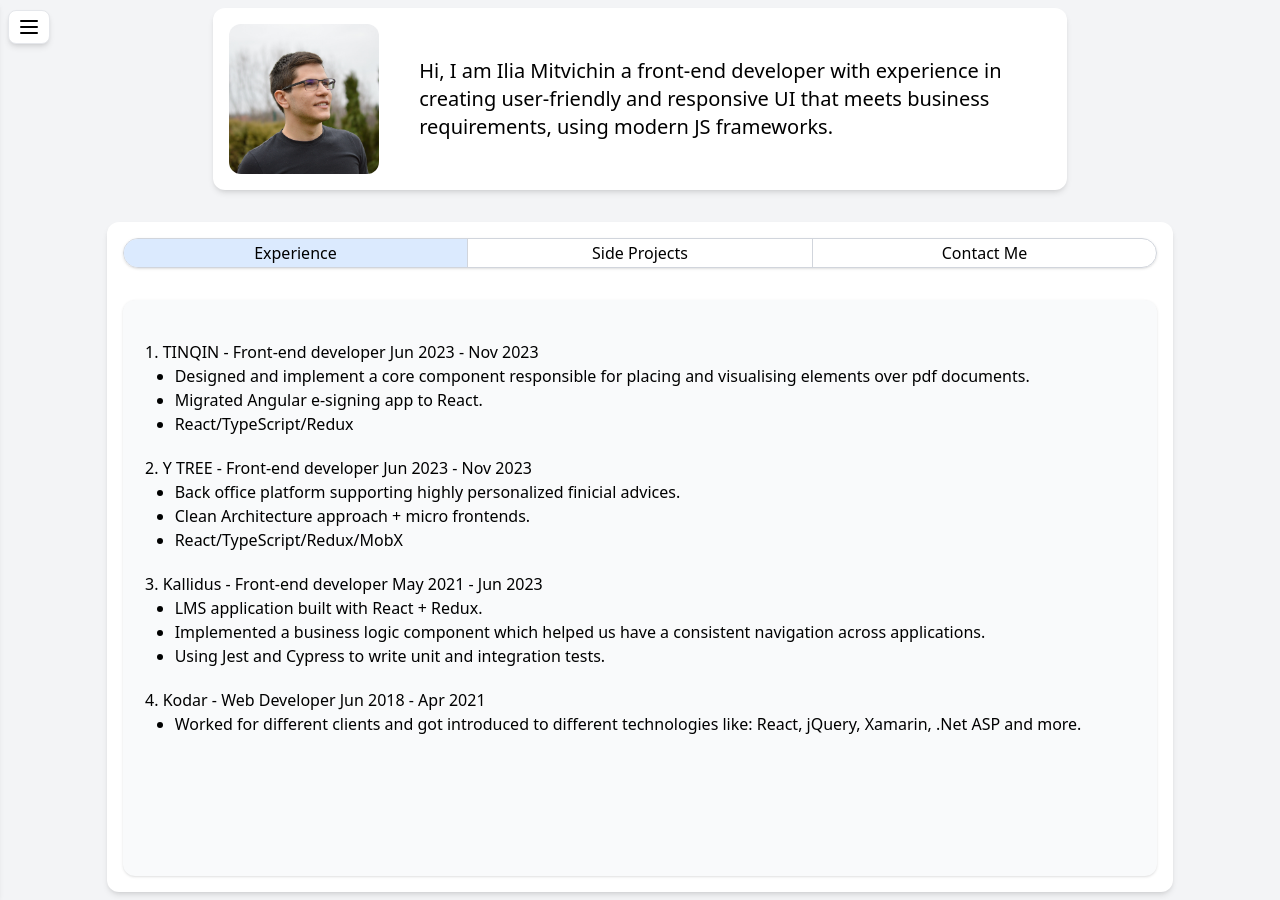
it: Home › should successfully navigate to contact me
What coordinates should you click on to do the following:
click the link "Contact Me"
I would click on:
 (984, 253)
Its box is [942, 242, 1027, 264].
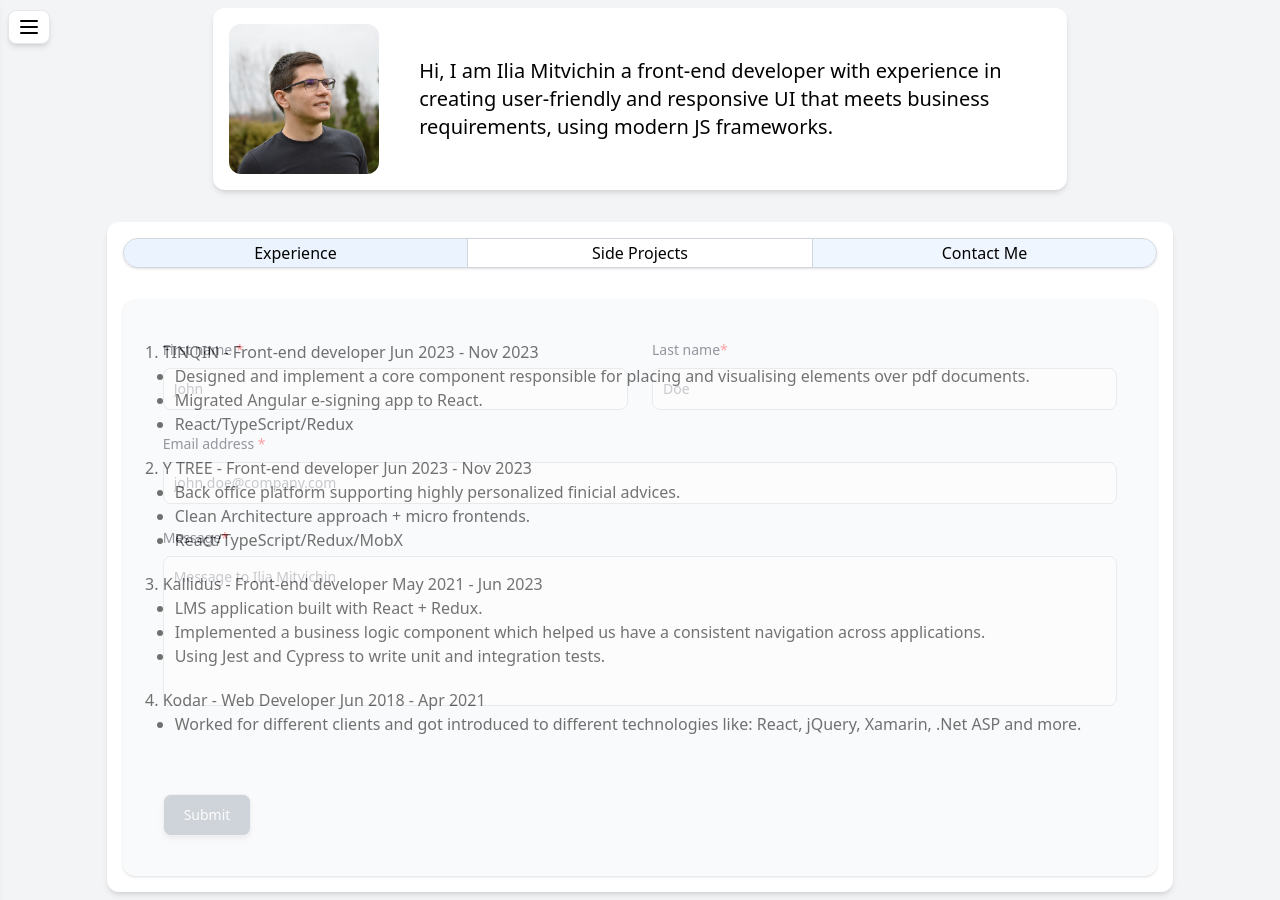
Expected: the field with placeholder "John" is shown, [163, 368, 628, 410]
Expected: the field with placeholder "Doe" is shown, [652, 368, 1117, 410]
Expected: the field with placeholder "john.doe@company.com" is shown, [163, 462, 1117, 504]
